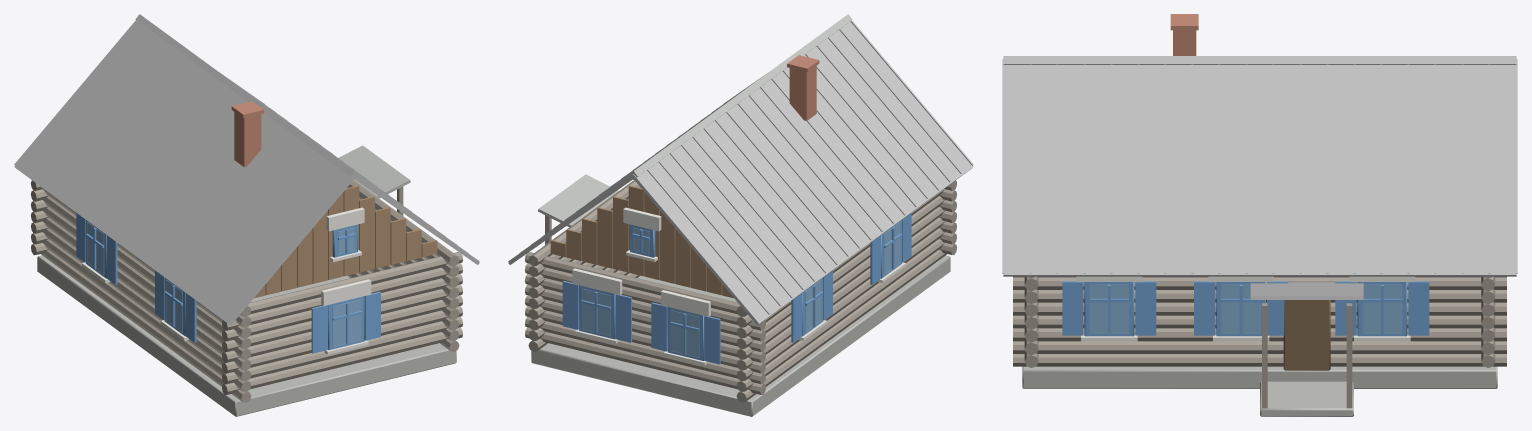
The model's file is Chata_Podlaska_C.fbx.
The picture shows the model from 3 angles, left to right: view 1: azimuth 30°, elevation 25°; view 2: azimuth 150°, elevation 25°; view 3: azimuth 270°, elevation 25°; orthographic projection. The views are drawn at different scales.
Parts seen in each view (by area): view 1: Chata_Podlaska_C; view 2: Chata_Podlaska_C; view 3: Chata_Podlaska_C.
Boxes of the visible parts, x1=… form: Chata_Podlaska_C: x1=14, y1=14, x2=479, y2=416; Chata_Podlaska_C: x1=508, y1=14, x2=973, y2=416; Chata_Podlaska_C: x1=1002, y1=14, x2=1517, y2=416.
Bounding box in the file's own units: 8.36 × 6.73 × 10.95.
